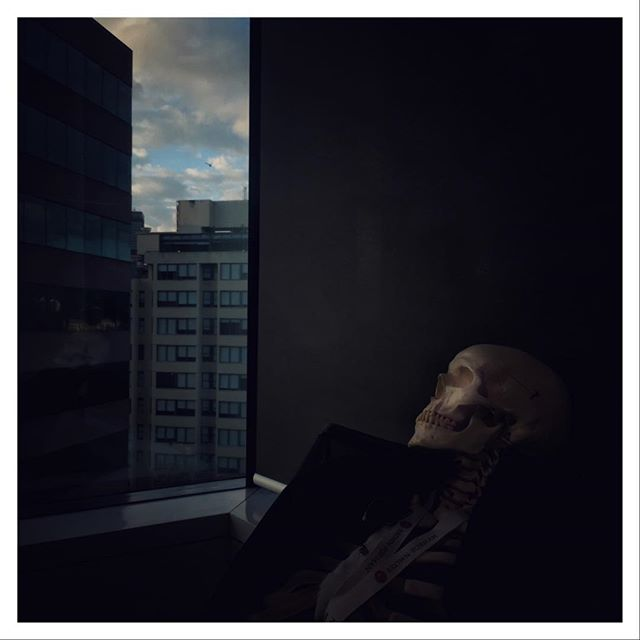bones: (303, 299, 570, 640)
building: (18, 18, 141, 477), (141, 211, 249, 479)
sky: (141, 24, 246, 204)
